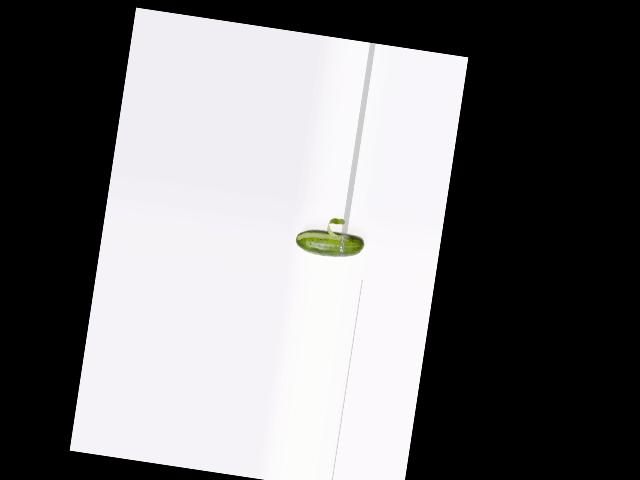cucumber: (294, 225, 366, 261)
